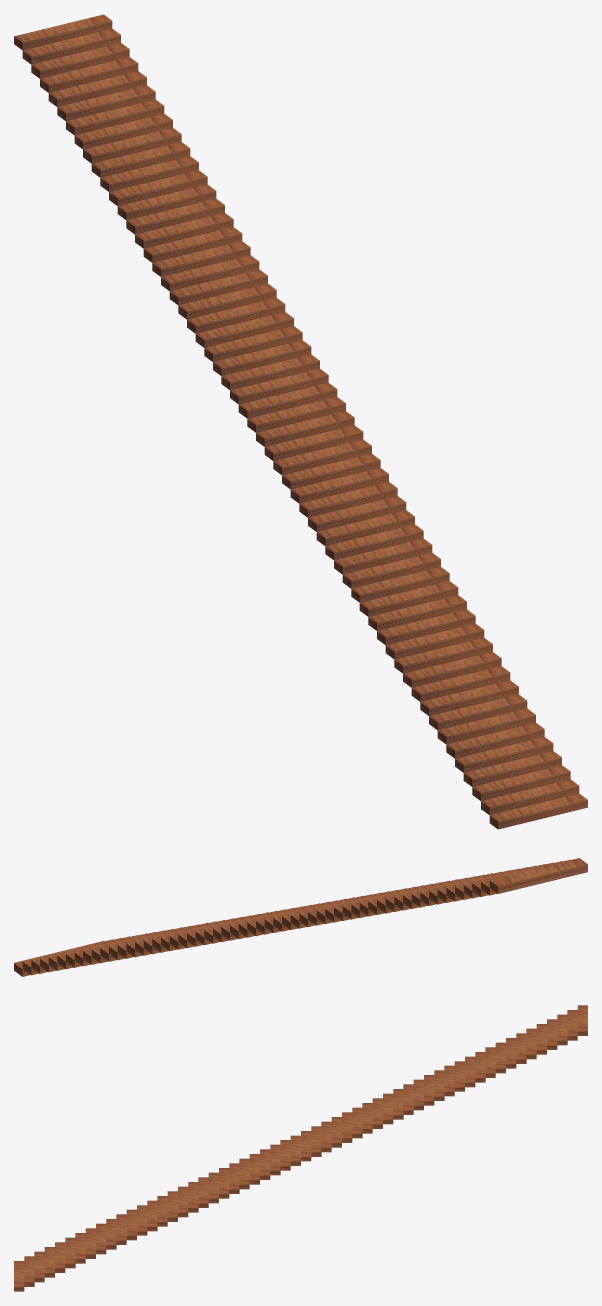
Rendered from Stairs.fbx.
3 views of the same model, one above another, from view 1: azimuth 30°, elevation 25°; view 2: azimuth 210°, elevation 25°; view 3: azimuth 270°, elevation 25° (orthographic). The views are drawn at different scales.
Parts seen in each view (by area): view 1: Stairs; view 2: Stairs; view 3: Stairs.
Boxes of the visible parts, bbox=[...] form: Stairs: bbox=[14, 14, 587, 829]; Stairs: bbox=[14, 858, 587, 976]; Stairs: bbox=[14, 1005, 587, 1291].
Size of the model in its own units: 600 by 2800 by 5600.
56 materials, 56 textured.
